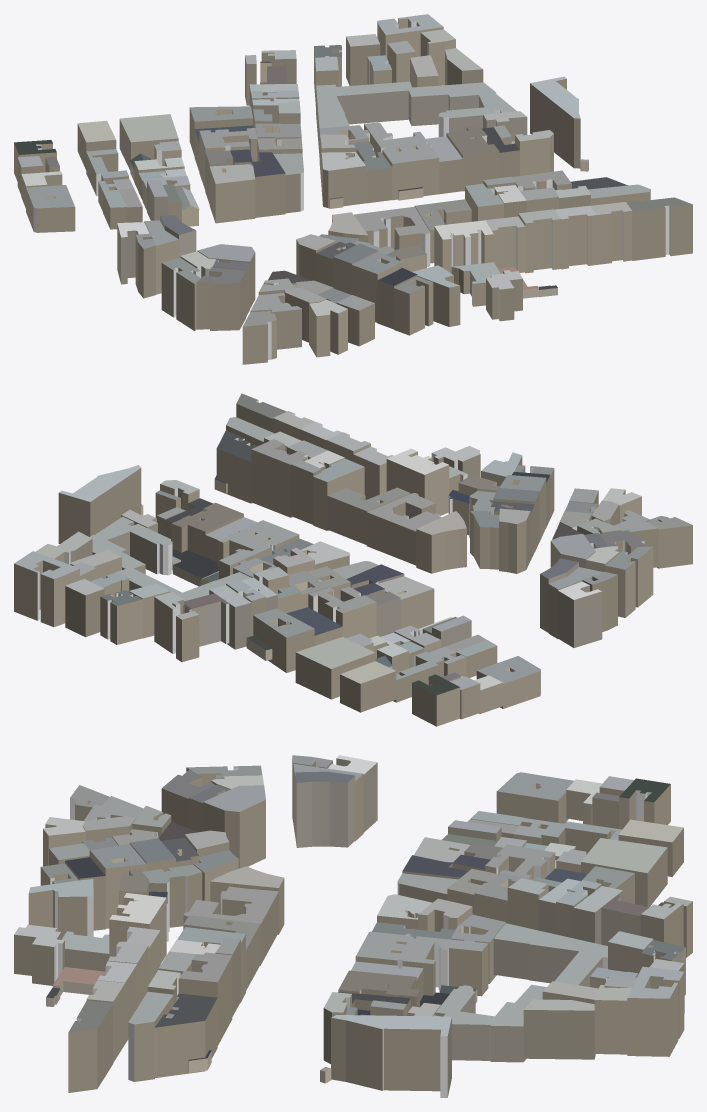
3 renders of one model, top to bottom at view 1: azimuth 30°, elevation 25°; view 2: azimuth 150°, elevation 25°; view 3: azimuth 270°, elevation 25°, orthographic. The views are drawn at different scales.
Parts seen in each view (by area): view 1: tuile; view 2: tuile; view 3: tuile.
Part boxes in pixels (x1=…): tuile: x1=14, y1=14, x2=692, y2=364; tuile: x1=14, y1=393, x2=692, y2=726; tuile: x1=14, y1=755, x2=692, y2=1097.
Bounding box in the file's own units: 272 × 37.4 × 259.
